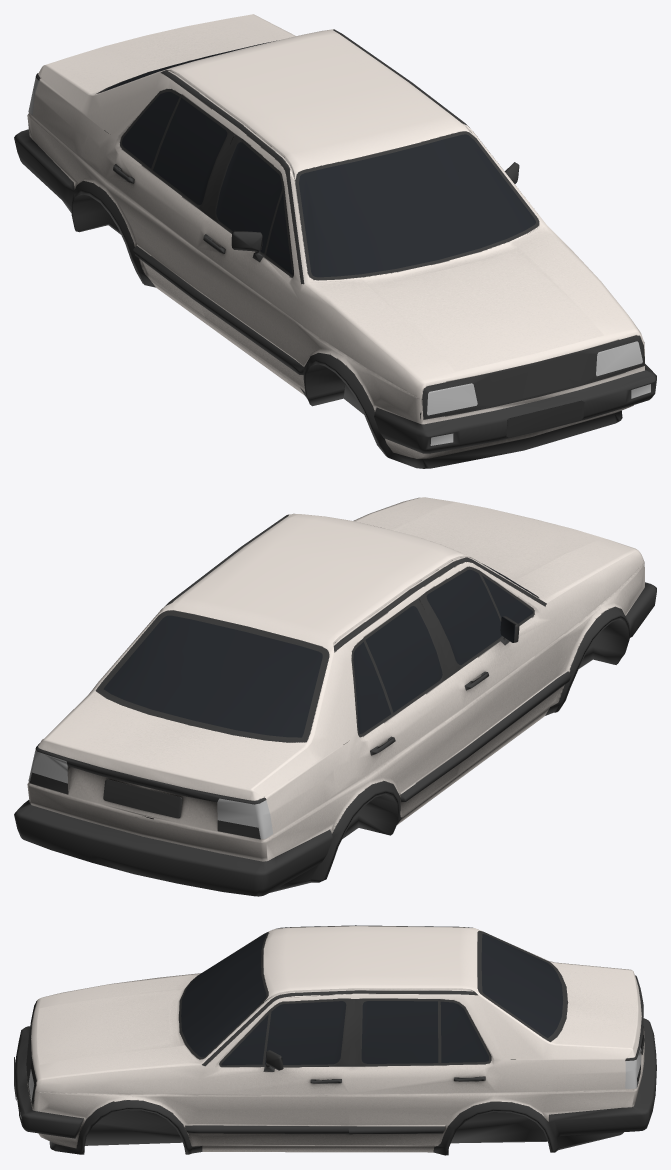
Rendered from car_0014.fbx.
The picture shows the model from 3 angles, top to bottom: view 1: azimuth 30°, elevation 25°; view 2: azimuth 150°, elevation 25°; view 3: azimuth 270°, elevation 25°; orthographic projection. The views are drawn at different scales.
Visible parts, largest first — view 1: car_main; view 2: car_main; view 3: car_main.
Boxes of the visible parts, <box> form: car_main: <box>14,14,656,468</box>; car_main: <box>14,497,656,896</box>; car_main: <box>14,925,656,1155</box>.
Size of the model in its own units: 193 by 133 by 482.
